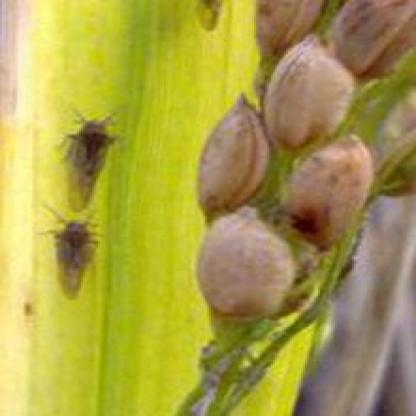brown-planthopper: (62, 114, 112, 209), (53, 216, 97, 297)
